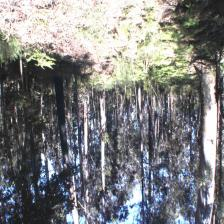trunktrack_idkeyframe: (53, 78, 68, 151)
